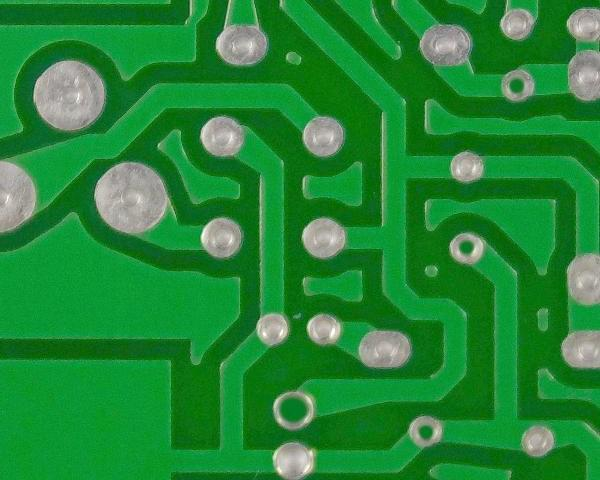missing hole: (269, 386, 319, 433), (407, 412, 445, 451), (447, 230, 488, 266), (497, 67, 536, 104)
